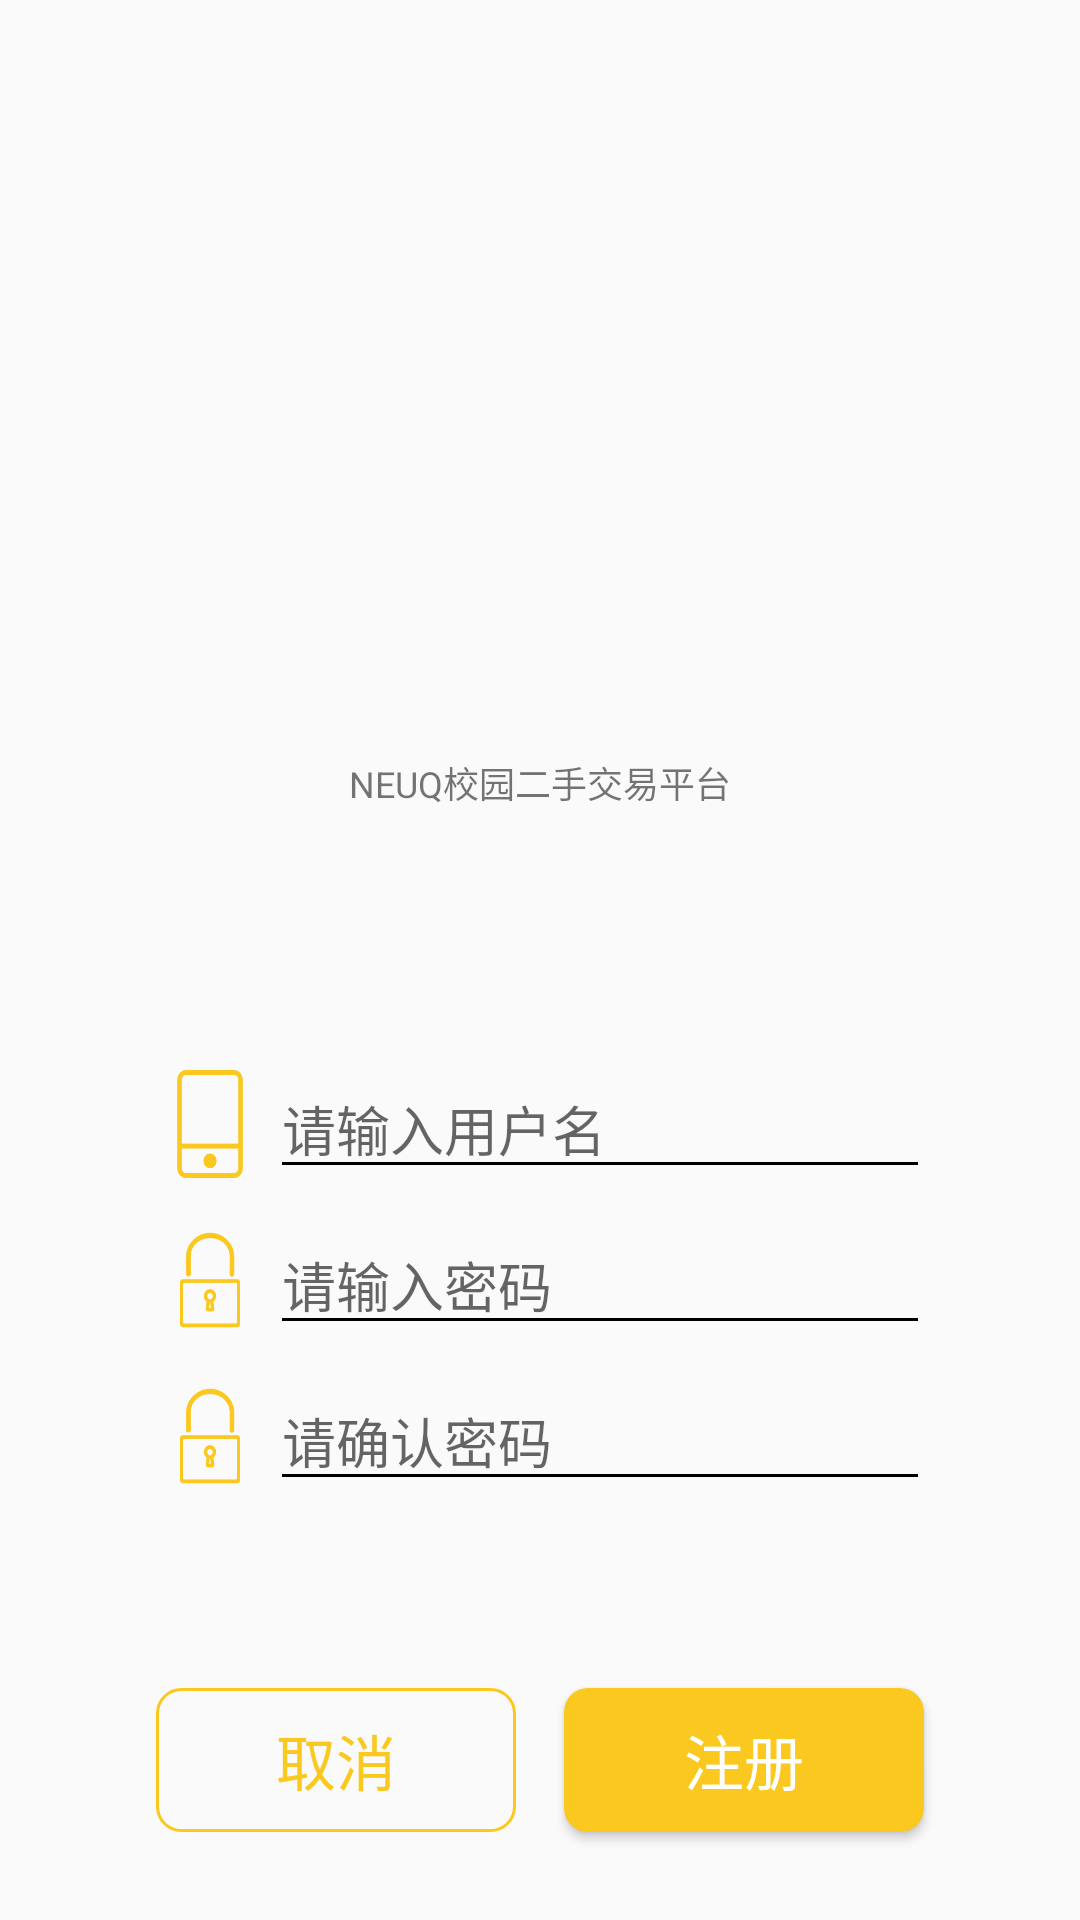

Where icons sit on this 1080 × 1920 app screen, as (x1, y1, x2, y2):
lock: (180, 1232, 240, 1328), (180, 1388, 240, 1484)
phone: (177, 1070, 243, 1178)
